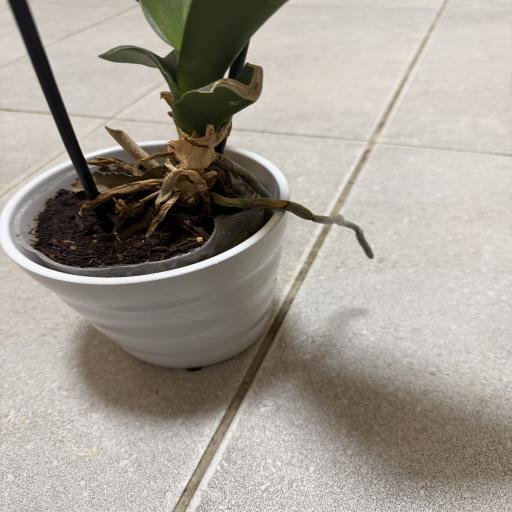Plant Pot: (0, 137, 291, 366)
